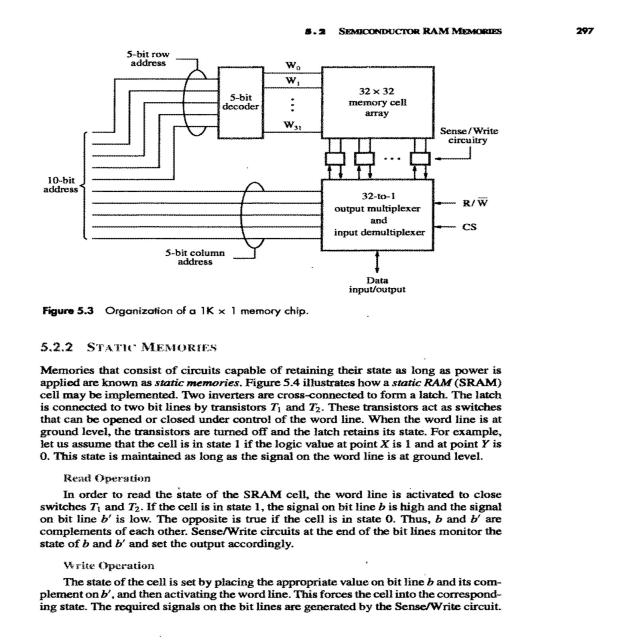diagram: (11, 38, 594, 322), (639, 13, 640, 22)
